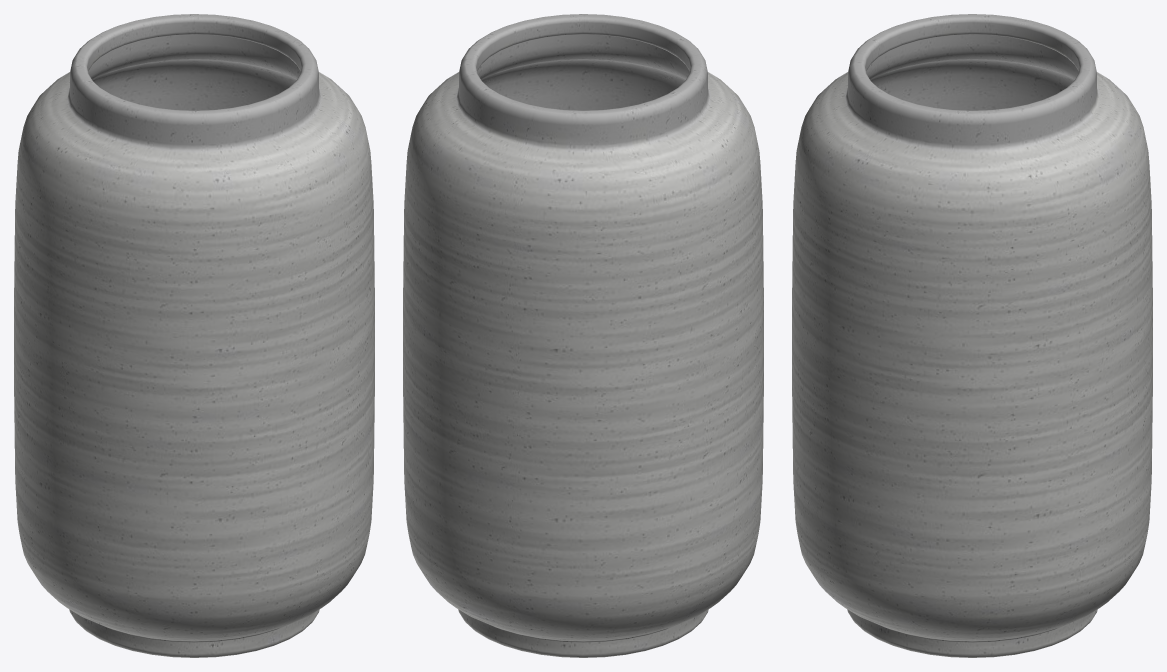
3 renders of one model, left to right at view 1: azimuth 30°, elevation 25°; view 2: azimuth 150°, elevation 25°; view 3: azimuth 270°, elevation 25°, orthographic.
Visible parts, largest first — view 1: RootNode; view 2: RootNode; view 3: RootNode.
Boxes of the visible parts, bbox=[...] form: RootNode: bbox=[14, 14, 374, 657]; RootNode: bbox=[403, 14, 763, 657]; RootNode: bbox=[792, 14, 1152, 657].
Bounding box in the file's own units: 0.202 × 0.3354 × 0.202.
1 material, 1 textured.
